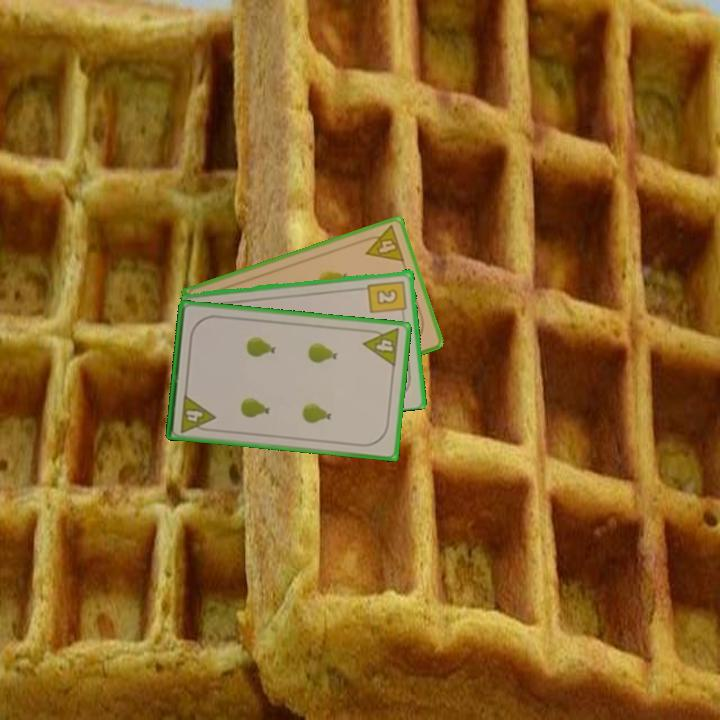2b: (365, 277, 409, 319)
4p: (358, 222, 407, 265), (360, 325, 403, 370), (177, 391, 217, 435)
